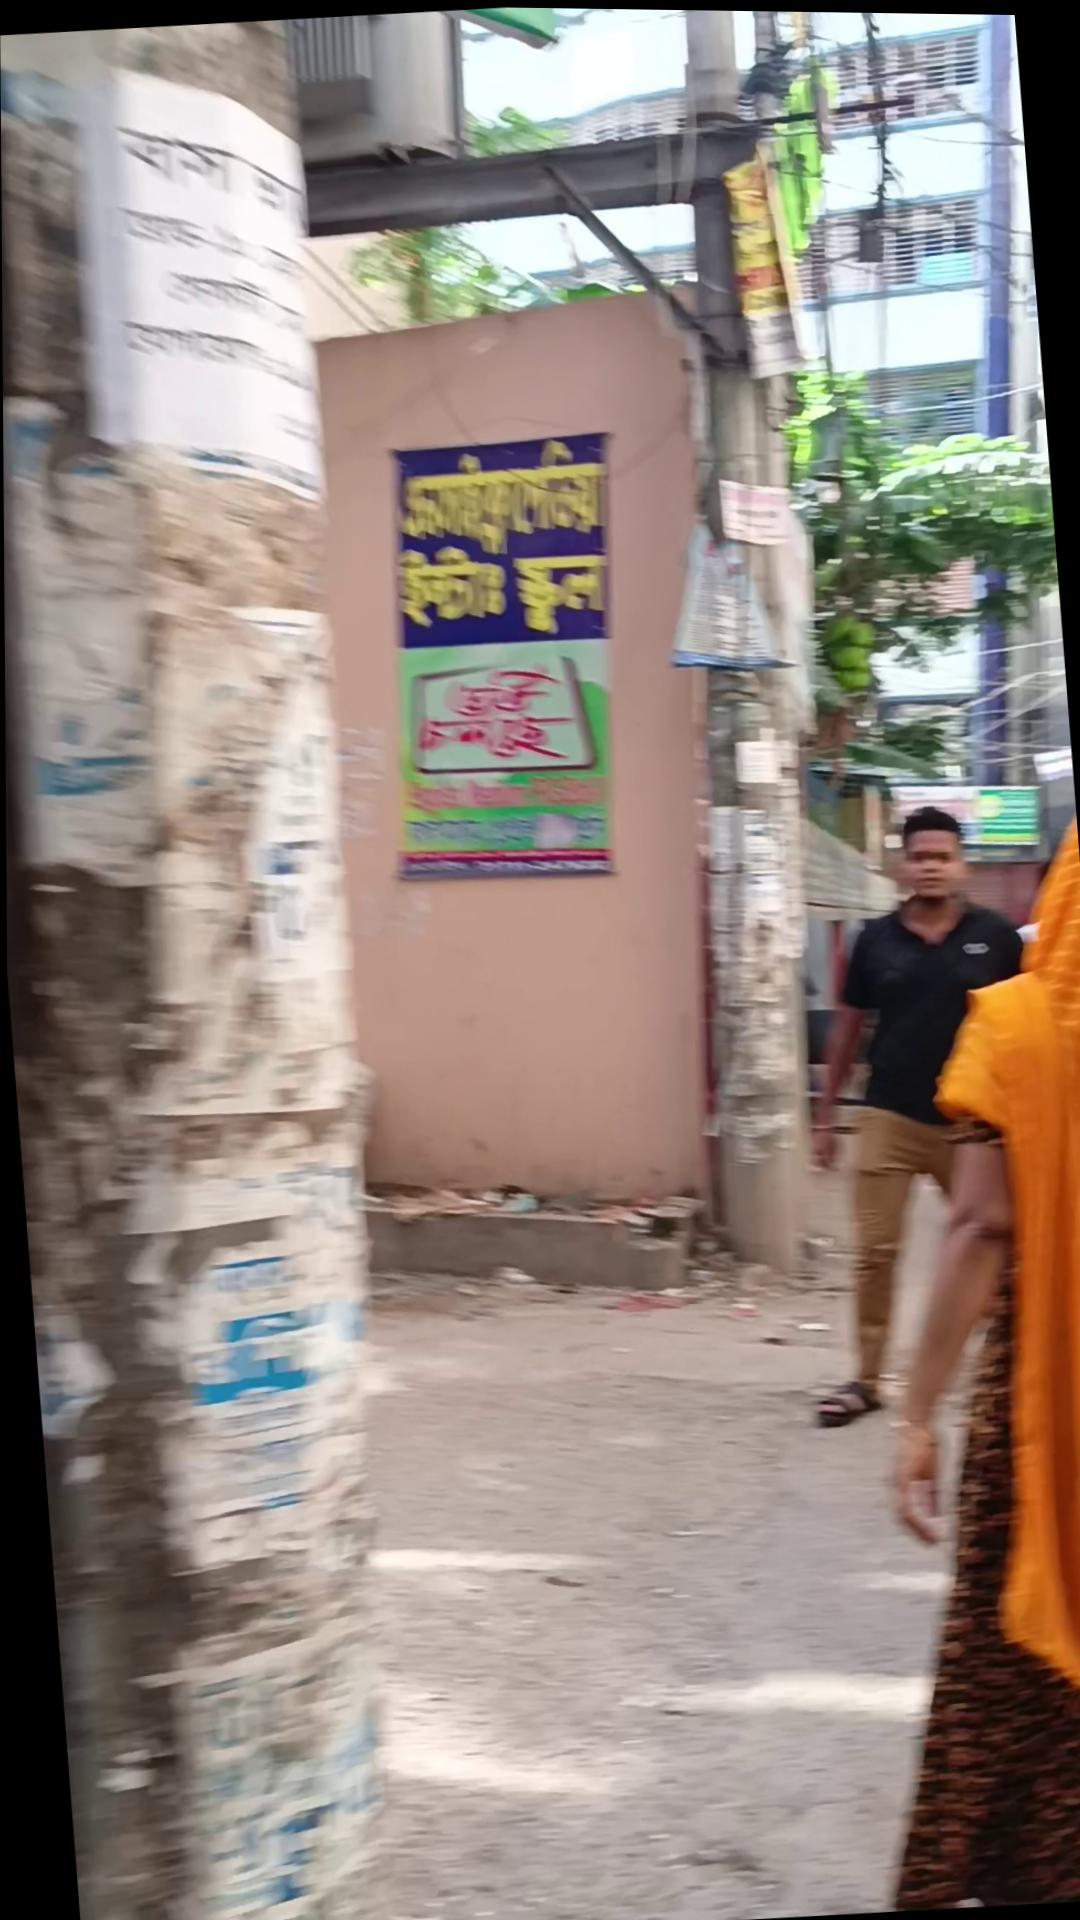Crosswalk: (356, 1167, 709, 1312)
Muddy road: (804, 806, 1080, 1908), (766, 794, 1058, 1429)
Obstacle: (0, 15, 435, 1913), (615, 7, 868, 1278)
Stuck-water: (361, 423, 640, 886)
